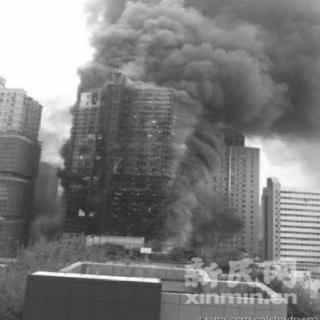Fire: (132, 115, 160, 138), (167, 112, 177, 134), (76, 208, 96, 218), (76, 153, 100, 160), (86, 133, 102, 140)
Smoke: (74, 0, 318, 139)
